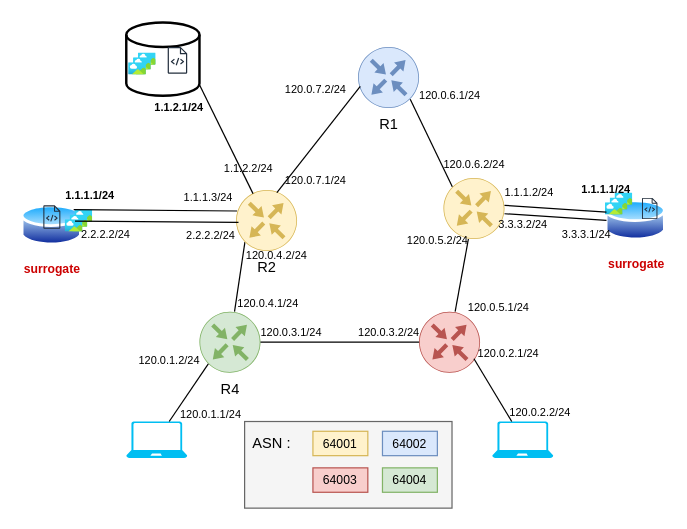
Image size: 687x529. Some labels were removed from this diagram. Here are the shapes that lost their labels. From the top down, the box of each, then its label:
(124, 21, 200, 96): origin
(442, 177, 504, 239): R3
(418, 310, 480, 373): R5
